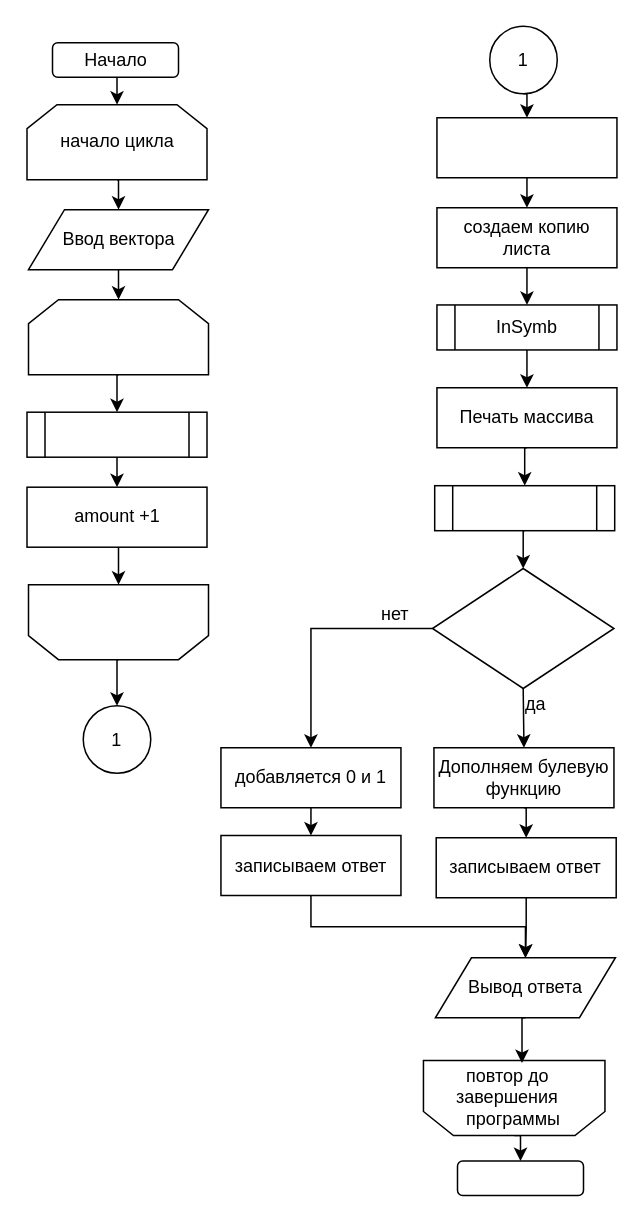
The diagram is 644 pixels wide and 1223 high, and some of its shapes have lost their labels. The shapes that lost their labels are listed below. From the top down, each one's centre as x and y in pixels, then its label:
At (x=526, y=147): "заполнение нового листа из строки".
At (x=117, y=336): "пока exponenta = 0".
At (x=116, y=434): "Expanenta".
At (x=524, y=507): "Sam".
At (x=117, y=621): "exponenta не равна 0".
At (x=522, y=627): "Вектор самодвойственный?".
At (x=520, y=1178): "Конец".
